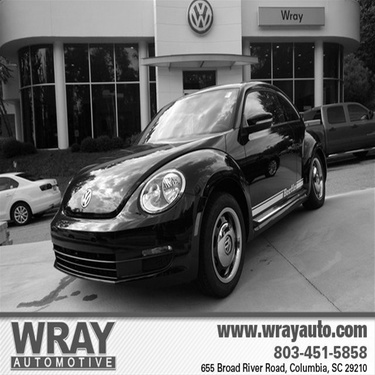car: (21, 71, 331, 301), (269, 99, 374, 159), (1, 177, 64, 231)
